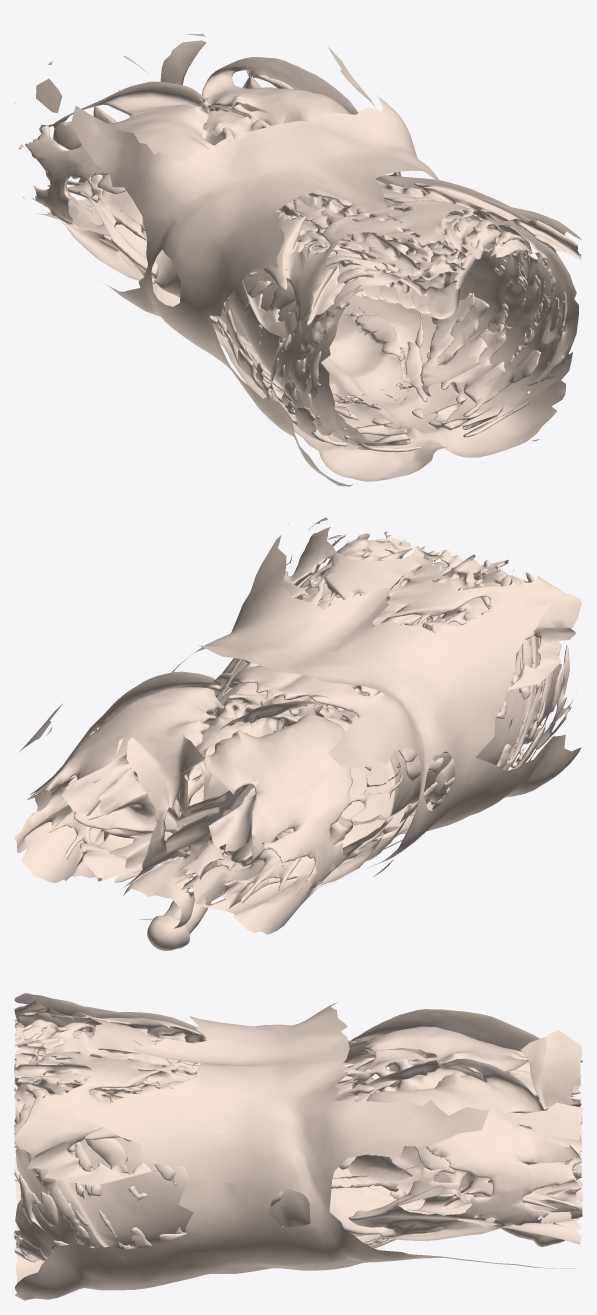
Rendered from abdomen__skin.f634694074.glb.
The picture shows the model from 3 angles, top to bottom: view 1: azimuth 30°, elevation 25°; view 2: azimuth 150°, elevation 25°; view 3: azimuth 270°, elevation 25°; orthographic projection. The views are drawn at different scales.
Visible parts, largest first — view 1: FMA7163; view 2: FMA7163; view 3: FMA7163.
Part boxes in pixels (box(x1,y1,x2,y2)): FMA7163: box(14, 33, 581, 486); FMA7163: box(14, 517, 581, 950); FMA7163: box(14, 993, 582, 1300).
Bounding box in the file's own units: 292 × 228 × 541.
